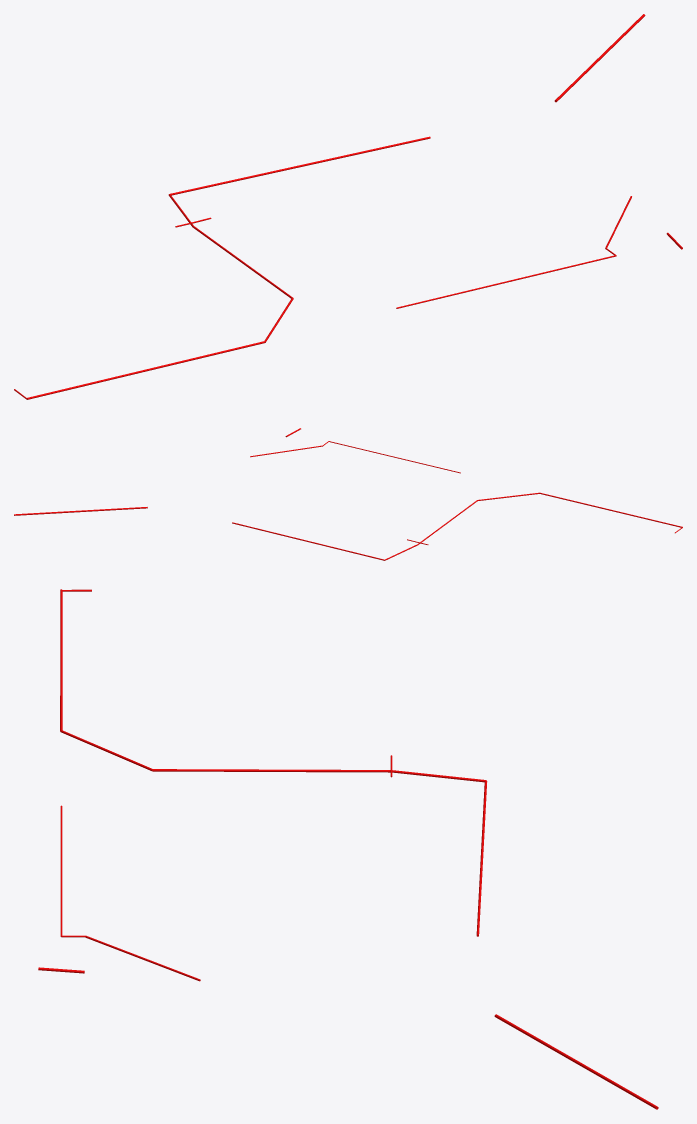
Rendered from 3caebc67-dafc-41b6-9b35-5100d0c14219.glb.
The picture shows the model from 3 angles, top to bottom: view 1: azimuth 30°, elevation 25°; view 2: azimuth 150°, elevation 25°; view 3: azimuth 270°, elevation 25°; orthographic projection. The views are drawn at different scales.
Visible parts, largest first — view 1: 237, 17; view 2: 333, 237, 17; view 3: no part large enough to name.
Part boxes in pixels (x1,y1,x2,y2): 237: (170, 136, 430, 195); 17: (27, 341, 265, 399); 333: (14, 507, 147, 515); 237: (232, 522, 384, 560); 17: (539, 492, 682, 527).
Bounding box in the file's own units: 301 × 4.15 × 155.
